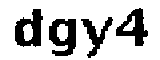4: (114, 7, 154, 49)
d: (9, 7, 42, 52)
g: (45, 15, 77, 60)
y: (79, 15, 114, 60)
